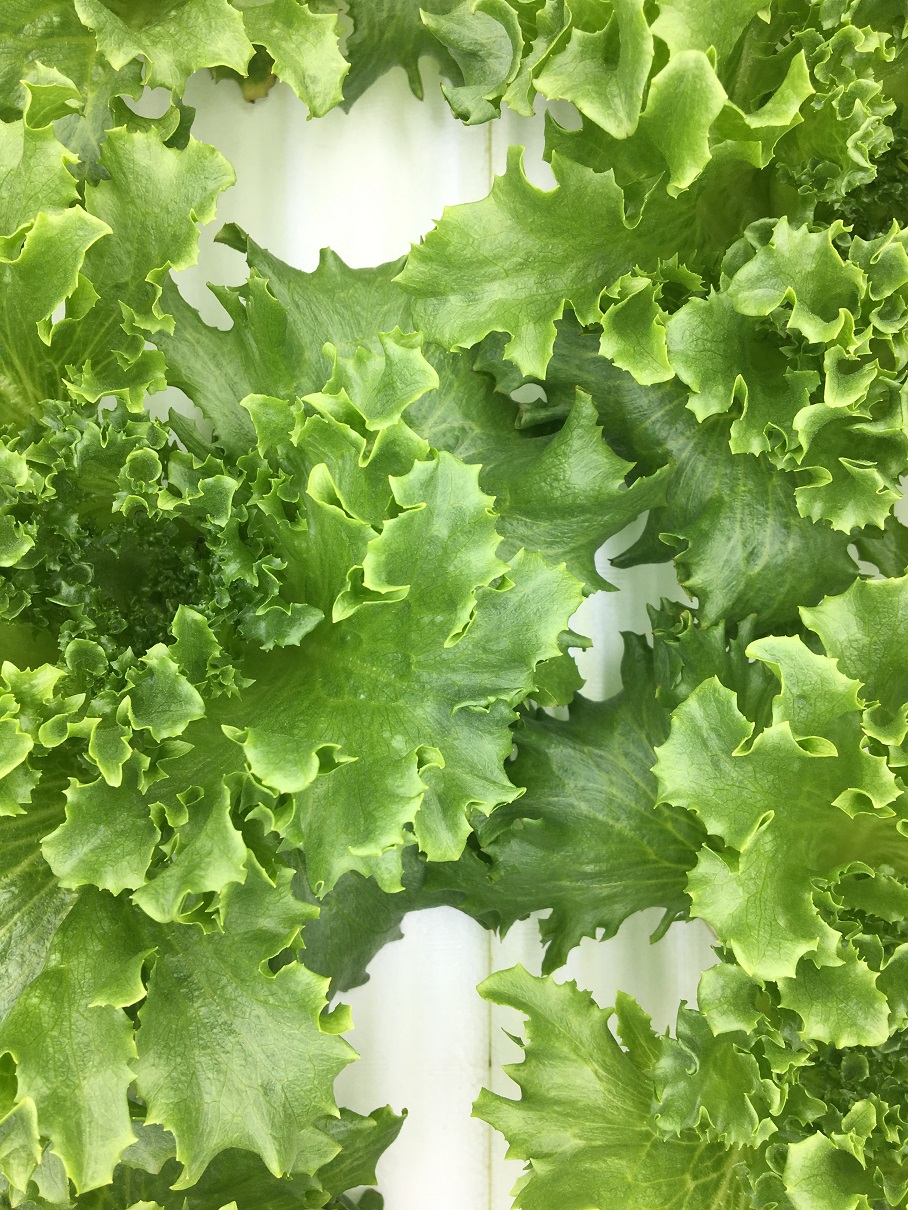tipburn: (232, 81, 269, 120), (509, 398, 537, 428), (188, 531, 215, 560), (671, 606, 689, 625), (432, 75, 449, 94), (529, 104, 543, 125)
